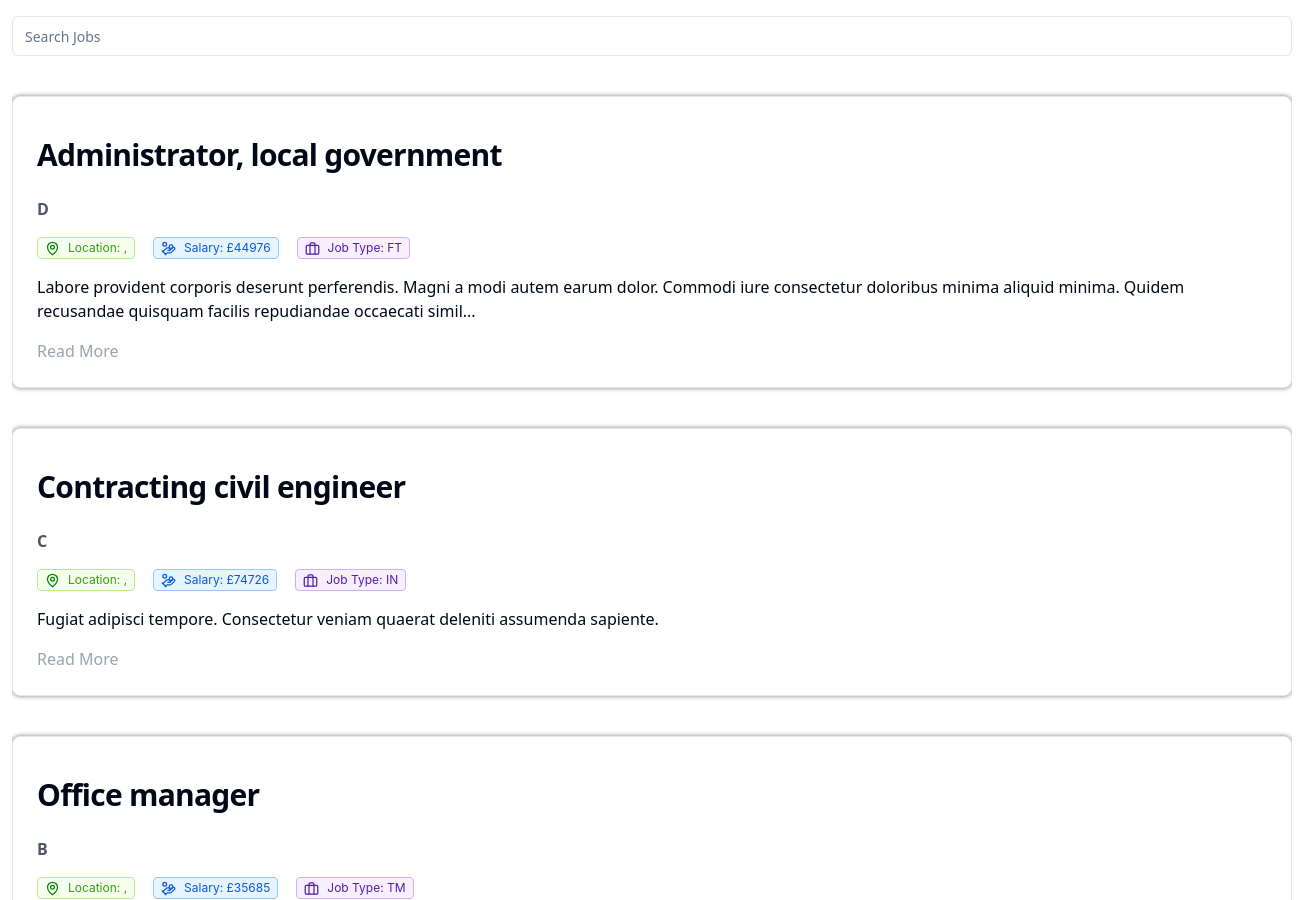
Test: JobList component › searched jobs appear correctly based on title
In the field with placeholder "Search Jobs": {"x": 652, "y": 36} [12,16,1292,56], type "administrator"
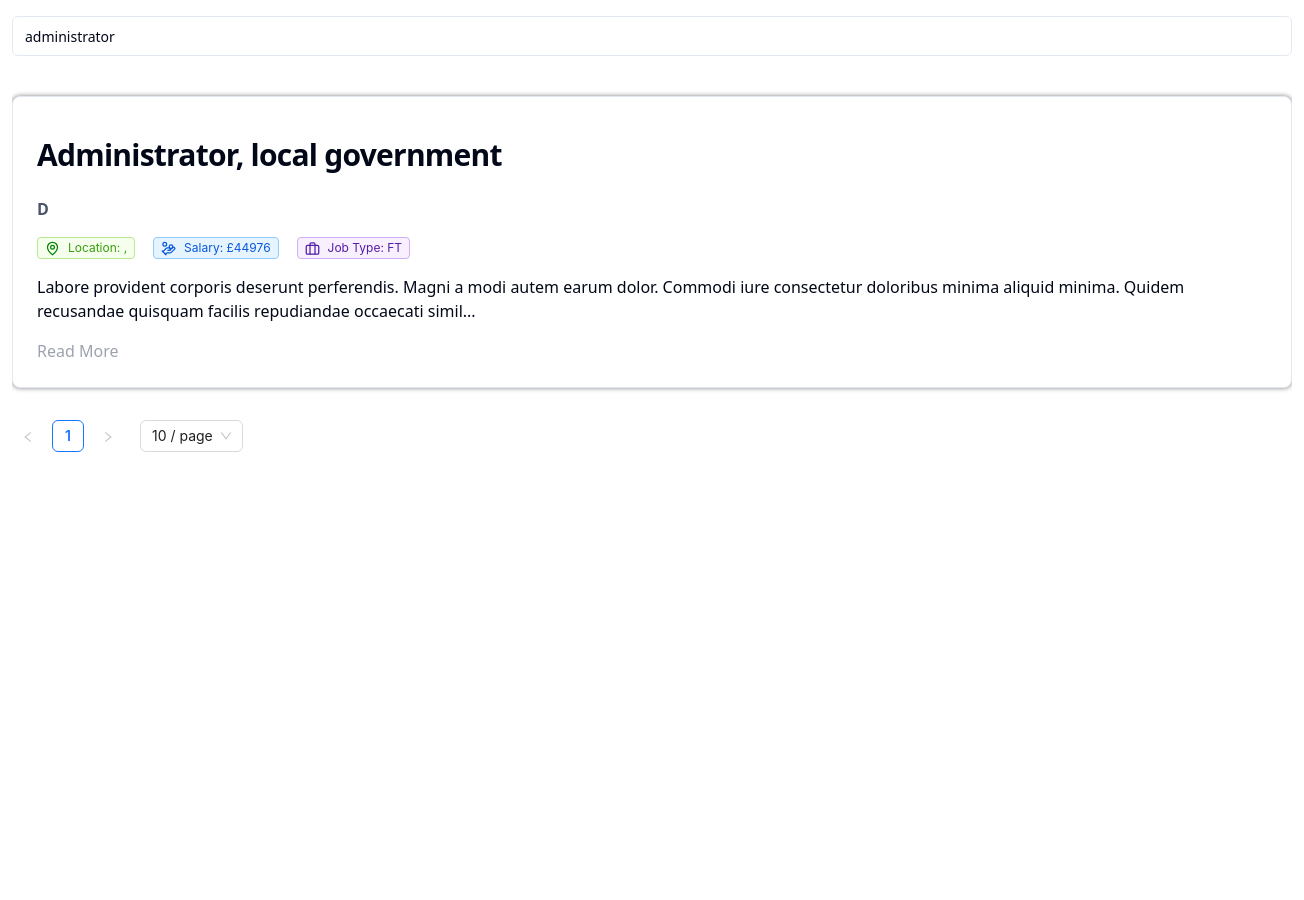
Expected: the heading "Administrator, local government" is shown, [37,134,502,175]
Result: the number of lists is 2 at [12,96,1292,388]; [12,420,243,452]
